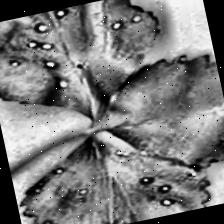Leaf Spot: (0, 0, 178, 142), (5, 110, 214, 224), (83, 46, 224, 188)
